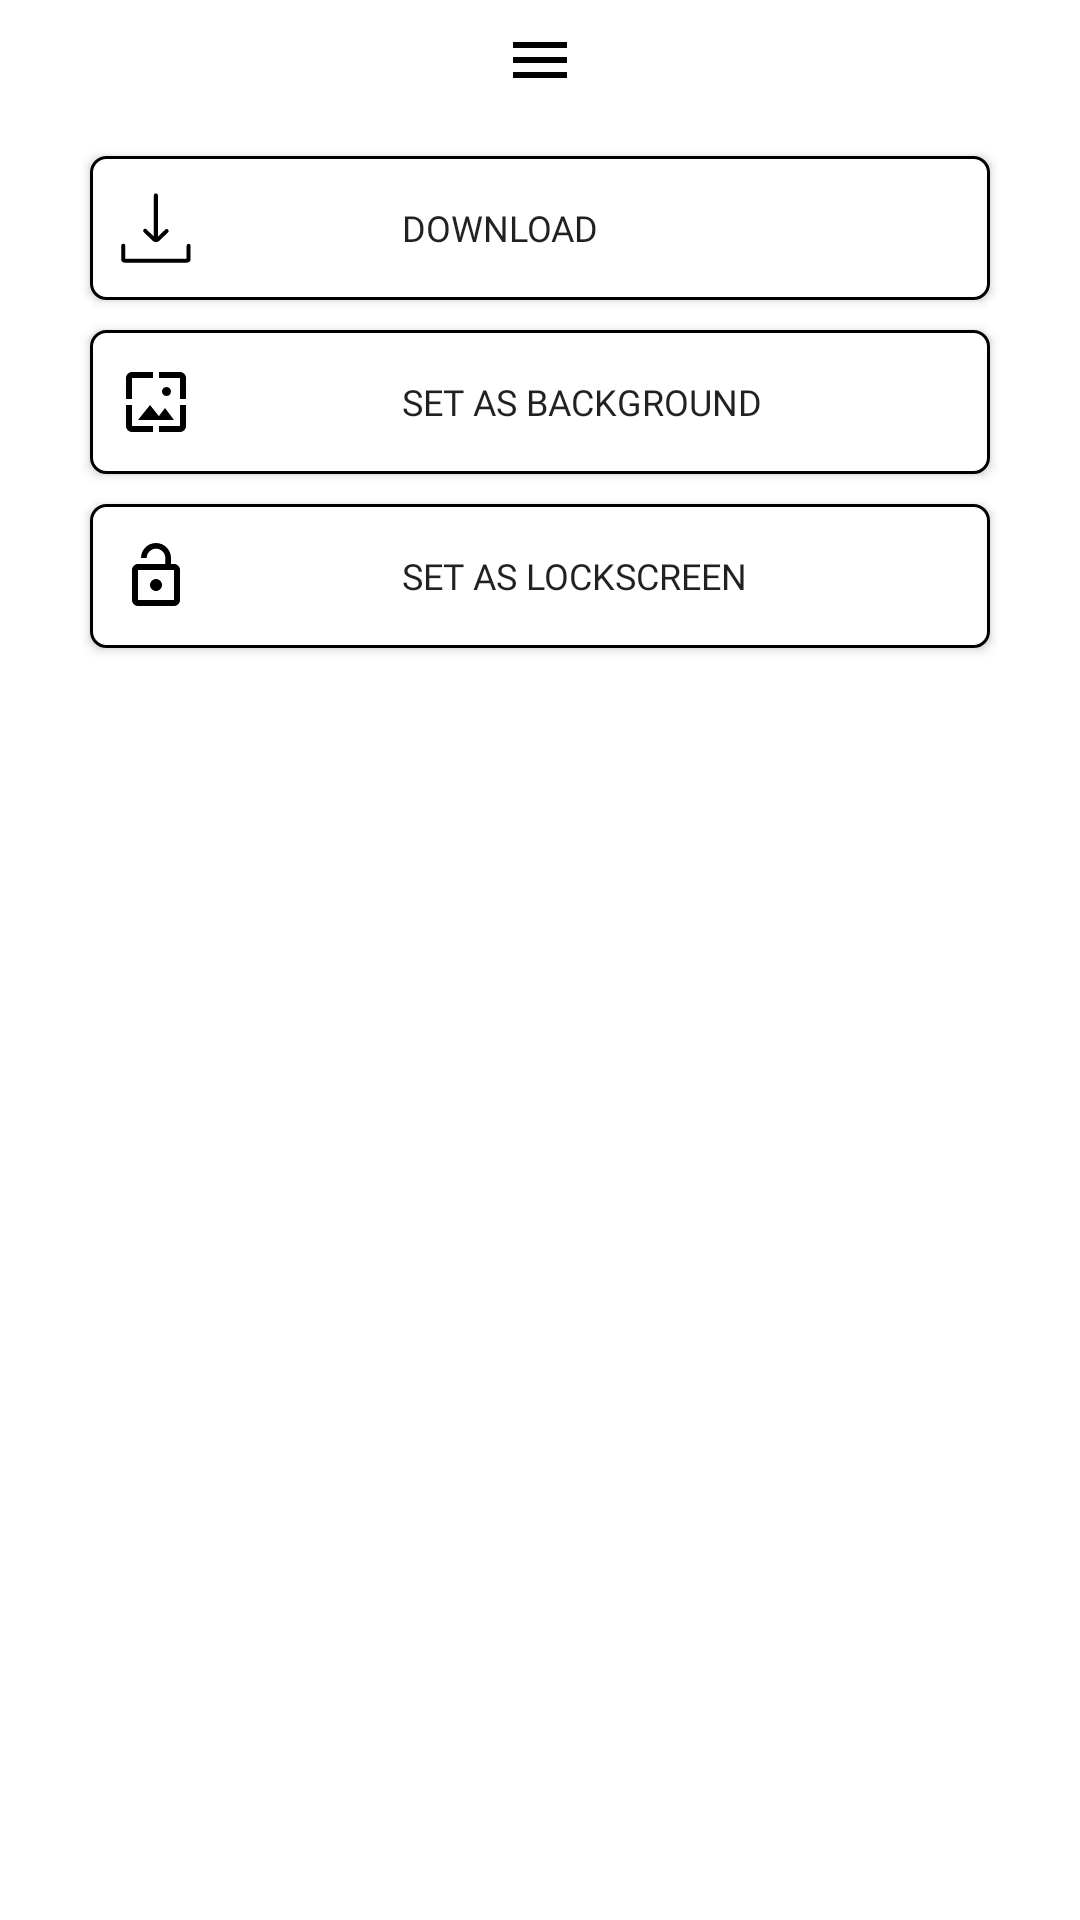

Icon bounding boxes for this 1080 x 1920 phone screenshot, format {"left": x1, "top": y1, "right": x2, "bottom": y2}:
menu: {"left": 513, "top": 42, "right": 567, "bottom": 78}
